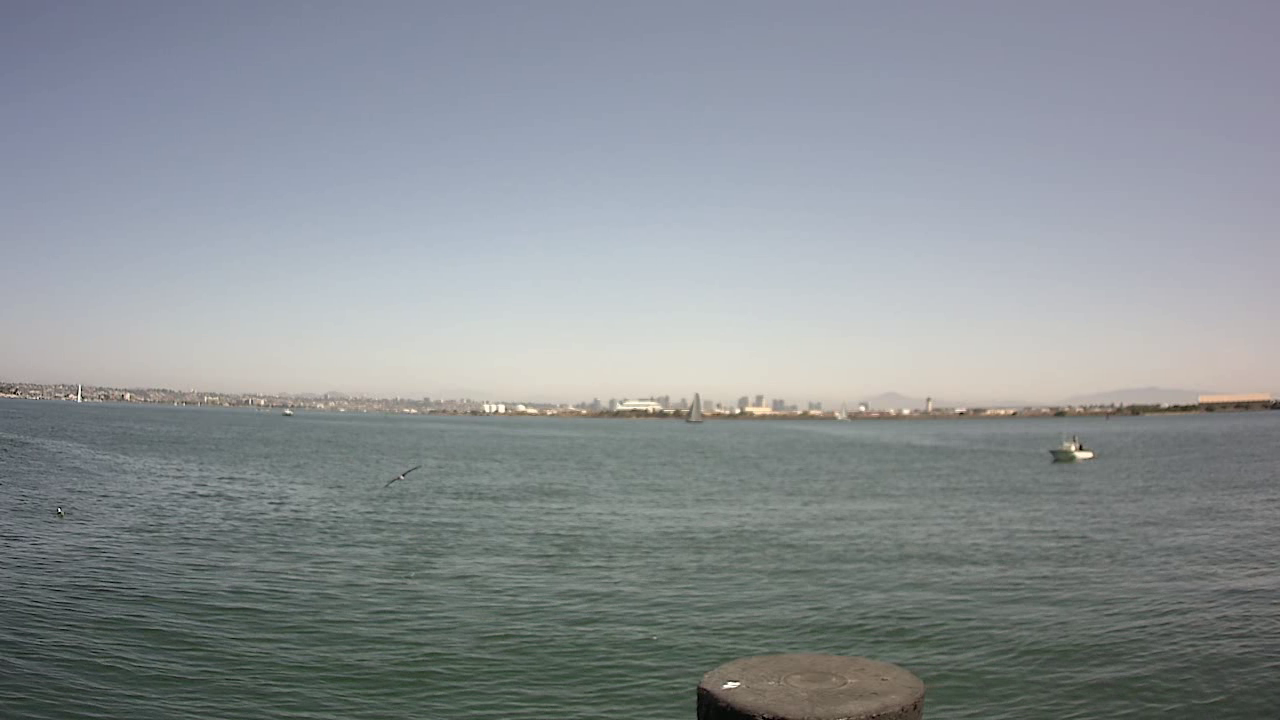target: (1042, 430, 1100, 466)
